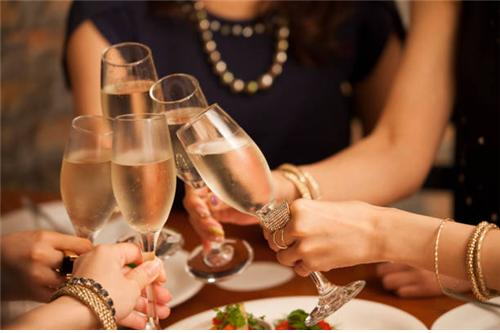alcohol: (176, 104, 365, 325), (148, 72, 252, 277), (149, 73, 252, 279), (112, 113, 177, 333), (60, 114, 120, 252), (101, 41, 167, 136)
